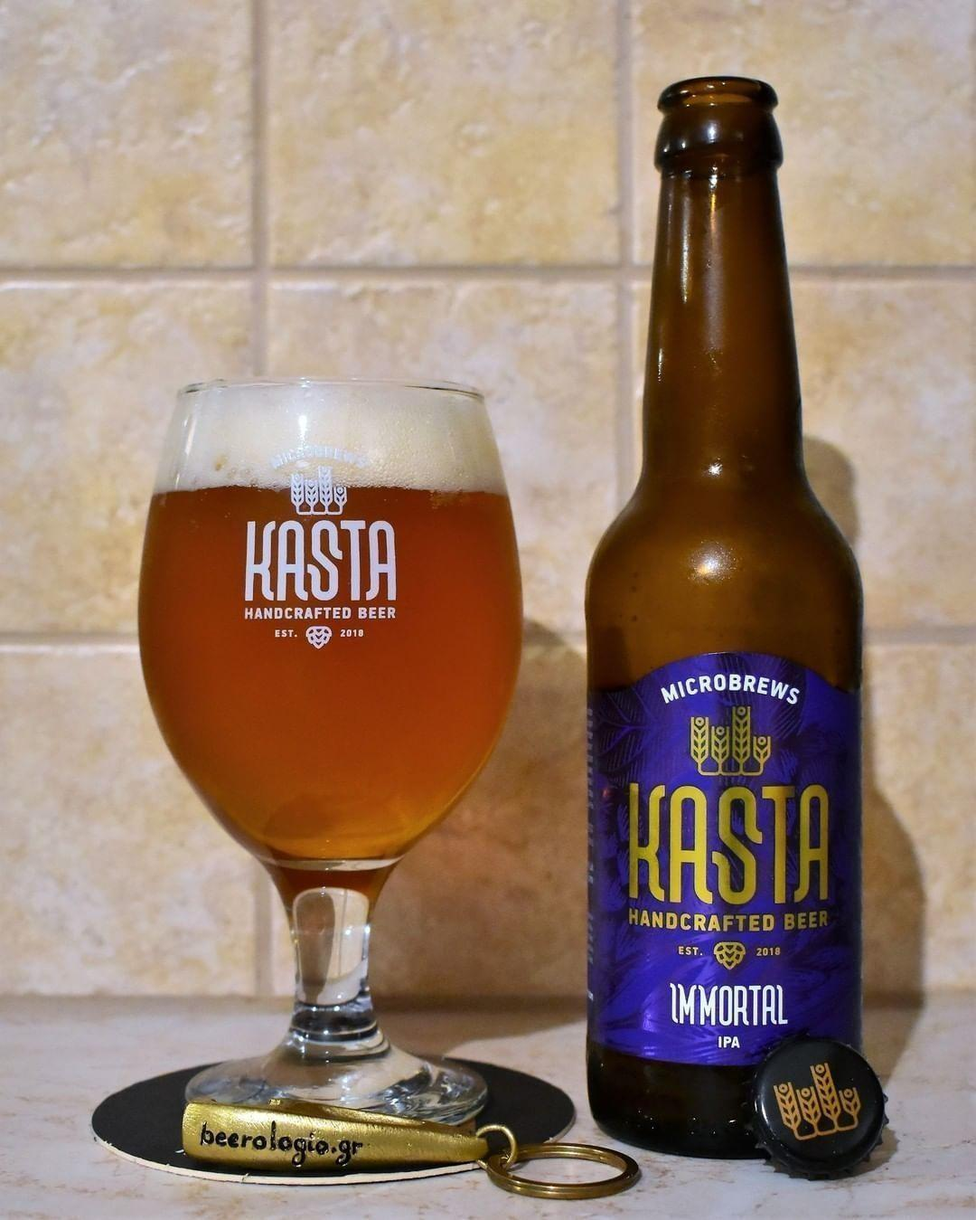bottle-glass: (570, 52, 880, 1165)
glass-wine: (125, 354, 533, 1136)
